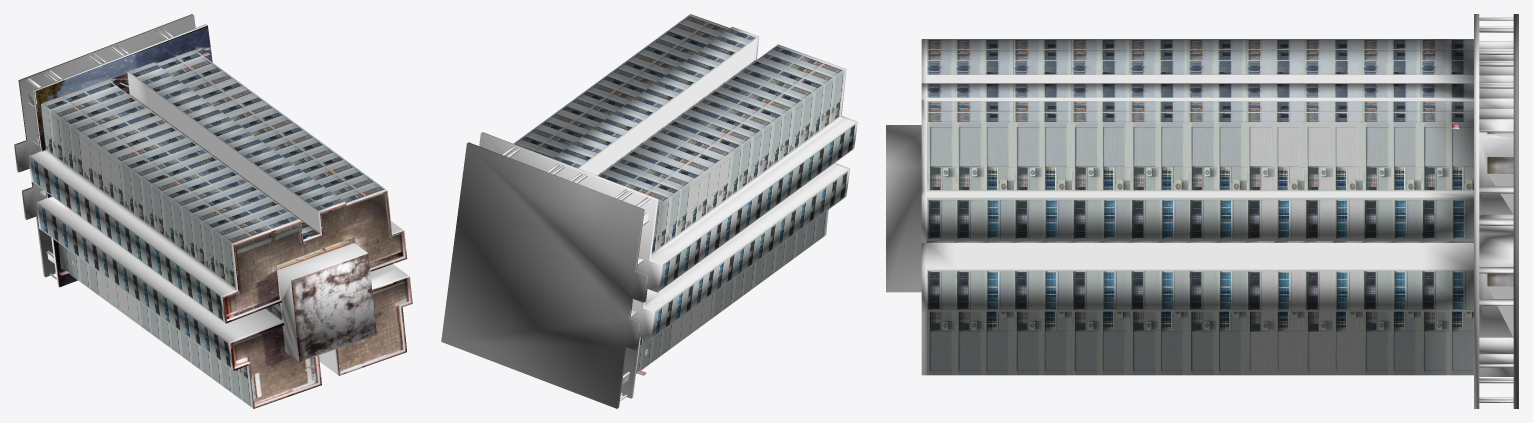
The model's file is amk_blk716_building.obj.
3 views of the same model, side by side, from view 1: azimuth 30°, elevation 25°; view 2: azimuth 150°, elevation 25°; view 3: azimuth 270°, elevation 25° (orthographic). The views are drawn at different scales.
Parts seen in each view (by area): view 1: polygon.862; view 2: polygon.862; view 3: polygon.862.
Boxes of the visible parts, x1,y1,x2,y2 form: polygon.862: [14, 14, 412, 408]; polygon.862: [441, 14, 857, 408]; polygon.862: [886, 14, 1518, 408].
Size of the model in its own units: 31.97 by 33.93 by 60.05.
1 material, 1 textured.
